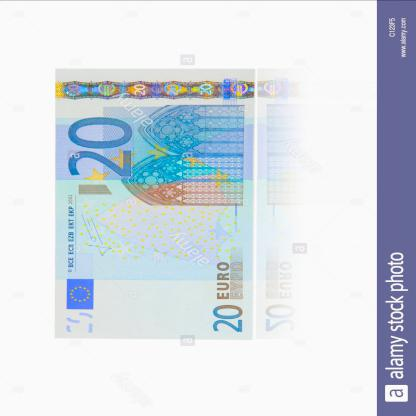euro_banknote: (21, 105, 291, 305)
